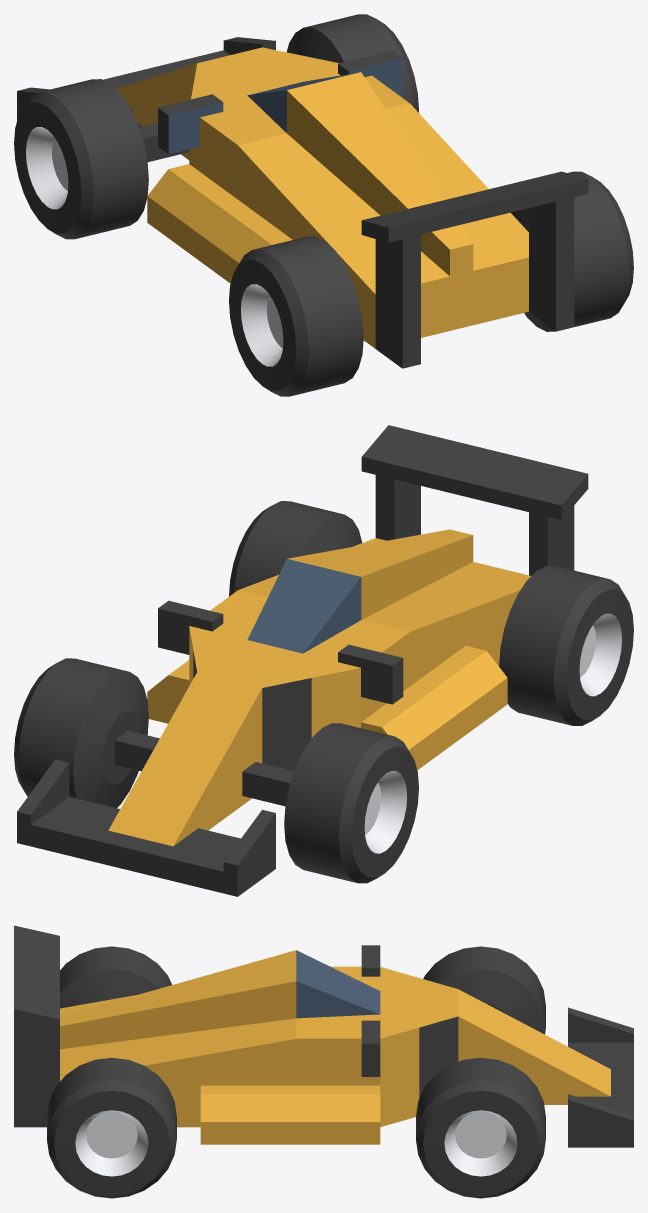
File: race-car-orange.dae
The picture shows the model from 3 angles, top to bottom: view 1: azimuth 30°, elevation 25°; view 2: azimuth 150°, elevation 25°; view 3: azimuth 270°, elevation 25°; orthographic projection. The views are drawn at different scales.
Parts seen in each view (by area): view 1: body, wheelBackRight, wheelFrontRight, wheelBackLeft, wheelFrontLeft; view 2: body, wheelFrontRight, wheelBackRight, wheelFrontLeft, wheelBackLeft; view 3: body, wheelBackLeft, wheelFrontLeft, wheelFrontRight, wheelBackRight.
Boxes of the visible parts, x1=… form: body: x1=17, y1=37, x2=588, y2=368; wheelBackRight: x1=229, y1=236, x2=363, y2=396; wheelFrontRight: x1=14, y1=79, x2=148, y2=239; wheelBackLeft: x1=511, y1=171, x2=633, y2=331; wheelFrontLeft: x1=287, y1=14, x2=418, y2=112; body: x1=17, y1=425, x2=588, y2=896; wheelFrontRight: x1=284, y1=723, x2=418, y2=883; wheelBackRight: x1=499, y1=566, x2=633, y2=725; wheelFrontLeft: x1=14, y1=658, x2=148, y2=808; wheelBackLeft: x1=229, y1=501, x2=362, y2=596; body: x1=14, y1=925, x2=633, y2=1147; wheelBackLeft: x1=47, y1=1057, x2=176, y2=1198; wheelFrontLeft: x1=416, y1=1057, x2=545, y2=1198; wheelFrontRight: x1=423, y1=946, x2=545, y2=1034; wheelBackRight: x1=60, y1=946, x2=171, y2=1008.
Bounding box in the file's own units: 0.7288 × 0.397 × 1.35.
